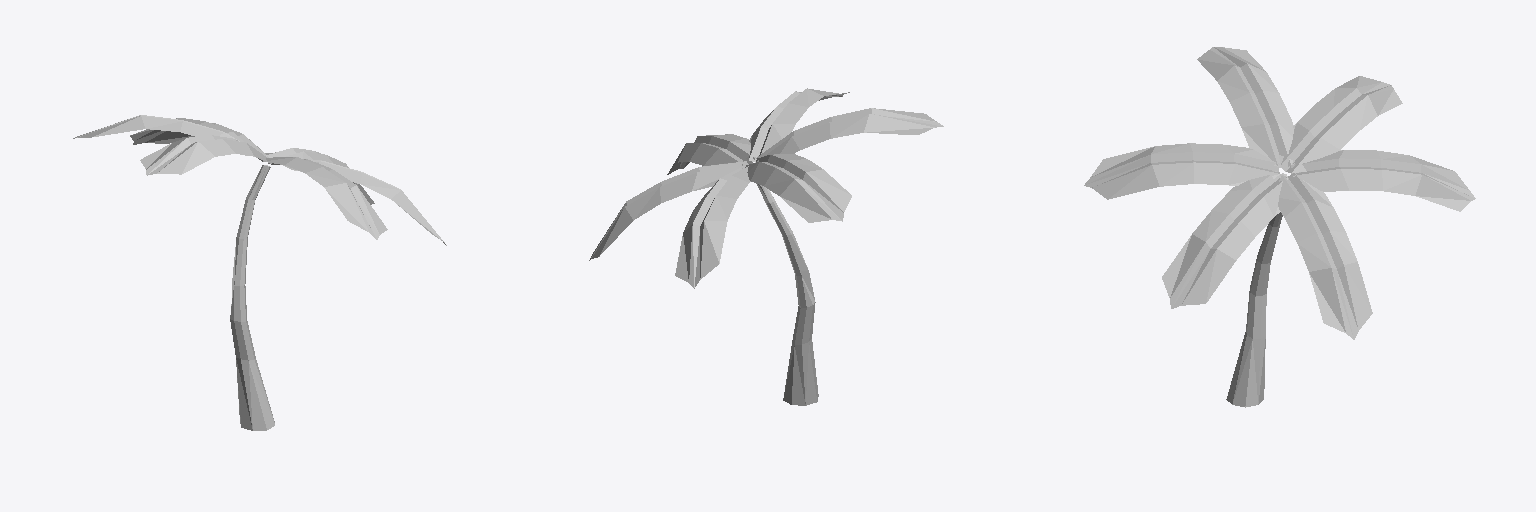
The model's file is game_palmtree4.obj.
3 renders of one model, left to right at view 1: azimuth 30°, elevation 25°; view 2: azimuth 150°, elevation 25°; view 3: azimuth 270°, elevation 25°, orthographic.
Visible parts, largest first — view 1: Plane; view 2: Plane; view 3: Plane.
Boxes of the visible parts, x1=… form: Plane: x1=73, y1=115, x2=446, y2=430; Plane: x1=589, y1=88, x2=943, y2=405; Plane: x1=1084, y1=47, x2=1475, y2=407.
Bounding box in the file's own units: 22.73 × 22.96 × 27.03.